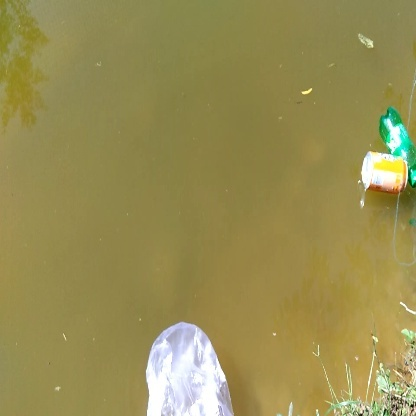bottle: (356, 146, 414, 198)
plastic-bag: (134, 319, 239, 416)
